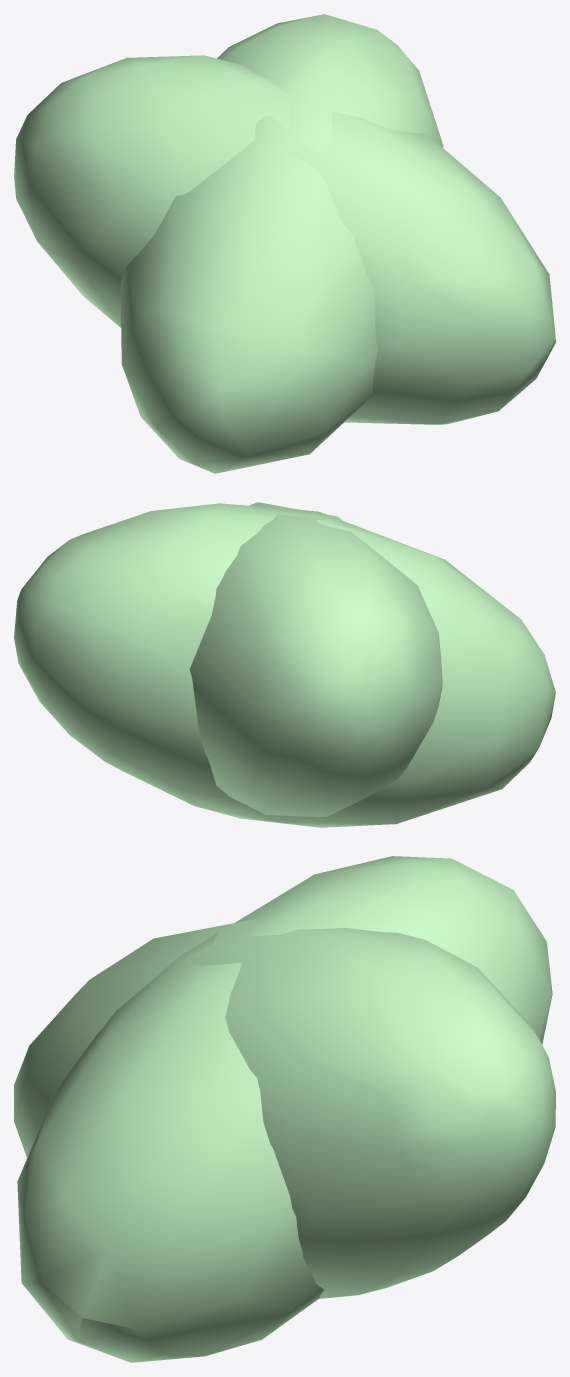
Rendered from lymphatic.glb.
3 renders of one model, top to bottom at view 1: azimuth 30°, elevation 25°; view 2: azimuth 150°, elevation 25°; view 3: azimuth 270°, elevation 25°, orthographic. The views are drawn at different scales.
Visible parts, largest first — view 1: left_ciliary_ganglion, right_ciliary_ganglion; view 2: right_ciliary_ganglion, left_ciliary_ganglion; view 3: left_ciliary_ganglion, right_ciliary_ganglion.
Boxes of the visible parts, left/top/right/bottom form: left_ciliary_ganglion: left=14, top=55, right=555, bottom=424; right_ciliary_ganglion: left=120, top=14, right=443, bottom=473; right_ciliary_ganglion: left=14, top=503, right=555, bottom=827; left_ciliary_ganglion: left=189, top=502, right=442, bottom=816; left_ciliary_ganglion: left=17, top=856, right=552, bottom=1362; right_ciliary_ganglion: left=14, top=920, right=555, bottom=1298.
Size of the model in its own units: 114387 by 90623 by 114920.
